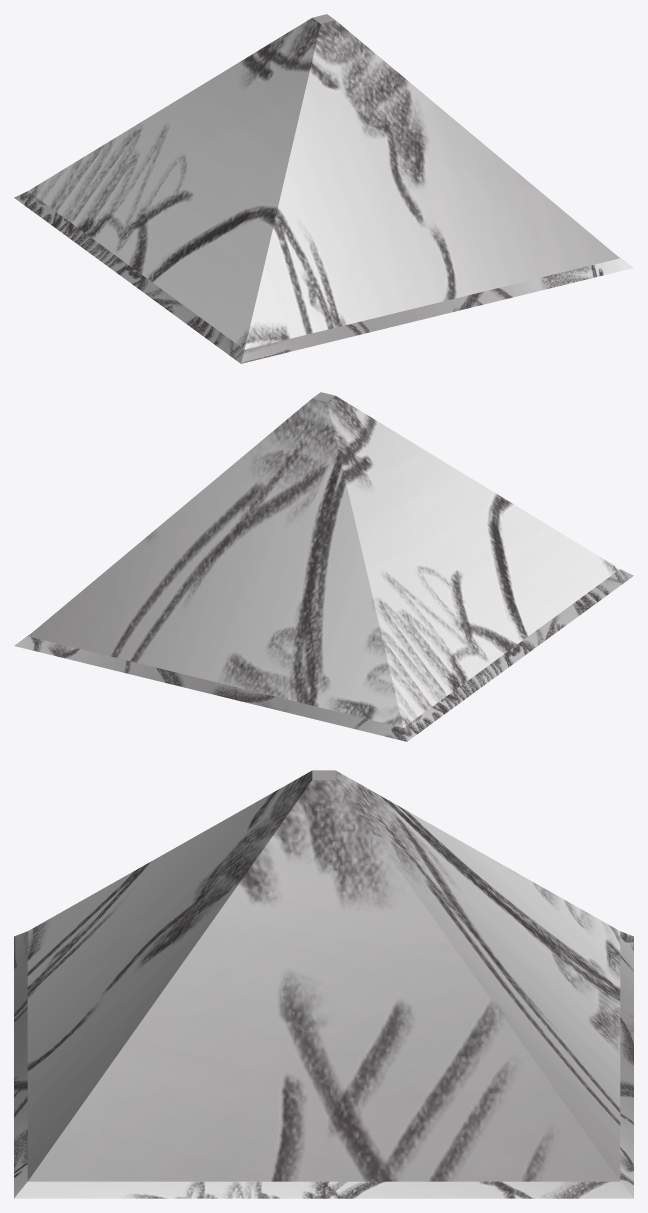
Rendered from Damage.fbx.
3 renders of one model, top to bottom at view 1: azimuth 30°, elevation 25°; view 2: azimuth 150°, elevation 25°; view 3: azimuth 270°, elevation 25°, orthographic. The views are drawn at different scales.
Parts seen in each view (by area): view 1: Cube; view 2: Cube; view 3: Cube.
Boxes of the visible parts, left/top/right/bottom form: Cube: left=14, top=14, right=633, bottom=363; Cube: left=14, top=392, right=633, bottom=741; Cube: left=14, top=770, right=633, bottom=1198.
Bounding box in the file's own units: 200 × 104 × 200.
